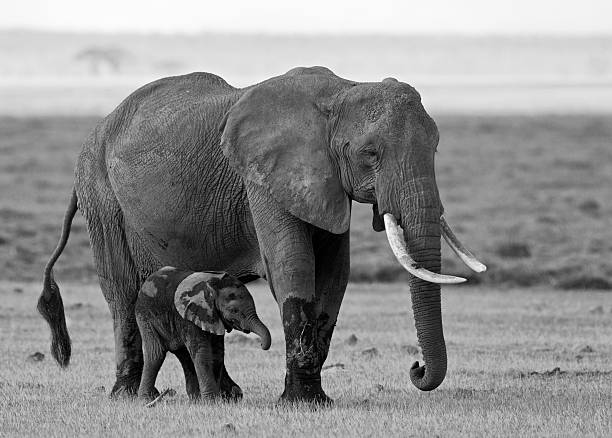africanelephant: (318, 80, 493, 308)
